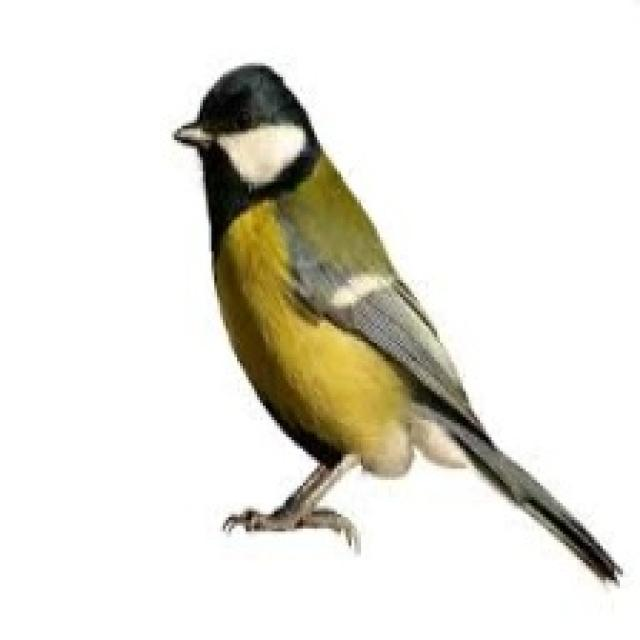bear: (134, 50, 624, 599)
